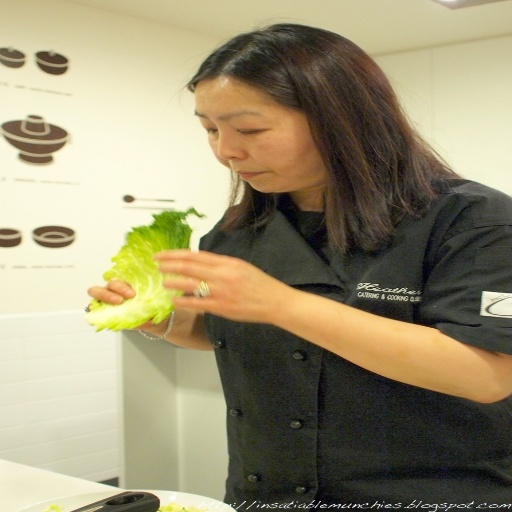hand: (158, 241, 304, 338), (83, 278, 178, 325)
